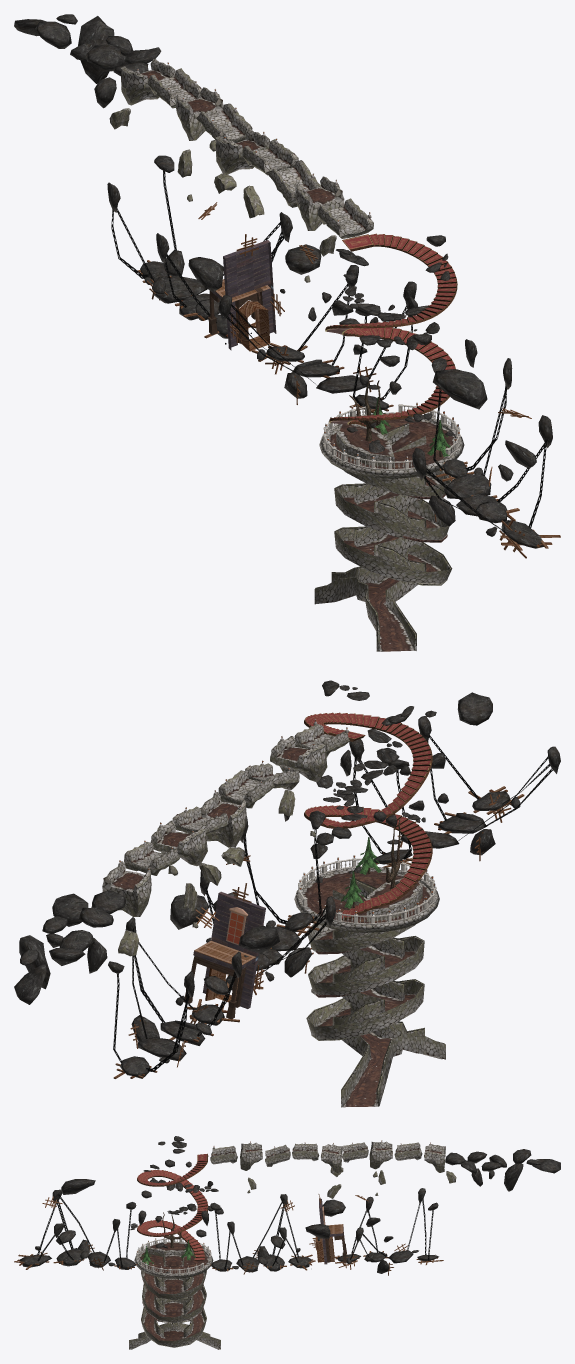
Rendered from spooky-tower-stairs-01-art.glb.
3 renders of one model, top to bottom at view 1: azimuth 30°, elevation 25°; view 2: azimuth 150°, elevation 25°; view 3: azimuth 270°, elevation 25°, orthographic. The views are drawn at different scales.
Parts seen in each view (by area): view 1: Spooky_Tower_Stairs_01_Art; view 2: Spooky_Tower_Stairs_01_Art; view 3: Spooky_Tower_Stairs_01_Art.
Part boxes in pixels (box(x1,y1,x2,y2)): Spooky_Tower_Stairs_01_Art: box(14, 14, 560, 651); Spooky_Tower_Stairs_01_Art: box(14, 680, 560, 1107); Spooky_Tower_Stairs_01_Art: box(14, 1136, 560, 1349).
Bounding box in the file's own units: 15.02 × 34.67 × 81.99.
Materials: 11 (11 with a texture image).
